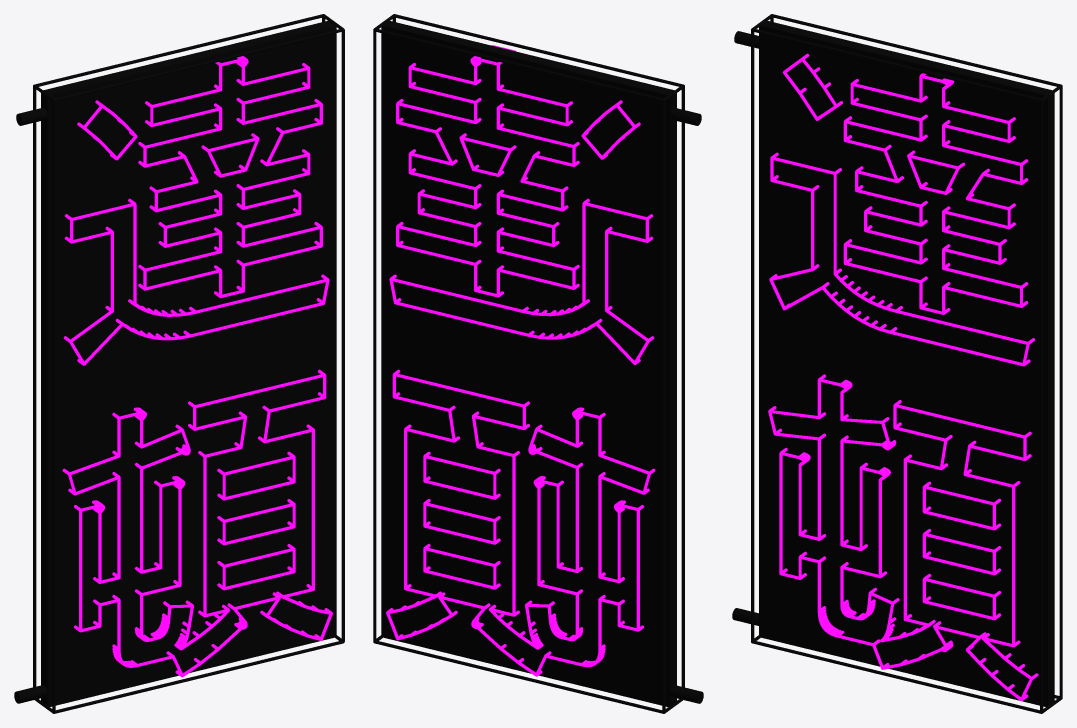
File: ВЫВЕСКА.fbx
The picture shows the model from 3 angles, left to right: view 1: azimuth 30°, elevation 25°; view 2: azimuth 150°, elevation 25°; view 3: azimuth 330°, elevation 25°; orthographic projection.
Visible parts, largest first — view 1: Куб, 頓, 達, Грань_0, Грань_2, Грань_8, Грань_1, Грань_3, Грань_7; view 2: Куб, 頓, 達, Грань_8, Грань_5, Грань_0, Грань_7, Грань_9, Грань_1; view 3: Куб, 頓, 達, Грань_2, Грань_0, Грань_5, Грань_1, Грань_3, Грань_7.
Part boxes in pixels (x1,y1,x2,y2): Куб: (41, 20, 336, 706); 頓: (62, 369, 332, 677); 達: (63, 56, 329, 365); Грань_0: (52, 101, 55, 712); Грань_2: (341, 30, 344, 642); Грань_8: (33, 86, 36, 687); Грань_1: (54, 28, 343, 101); Грань_3: (55, 640, 343, 713); Грань_7: (35, 14, 323, 86); Куб: (381, 20, 676, 706); 頓: (386, 369, 655, 676); 達: (389, 45, 654, 364); Грань_8: (662, 101, 665, 712); Грань_5: (373, 30, 376, 642); Грань_0: (681, 86, 684, 687); Грань_7: (374, 28, 663, 101); Грань_9: (374, 640, 663, 713); Грань_1: (394, 14, 683, 86); Куб: (759, 20, 1054, 706); 頓: (768, 374, 1038, 701); 達: (769, 53, 1034, 366); Грань_2: (1040, 101, 1043, 712); Грань_0: (751, 30, 754, 642); Грань_5: (1059, 87, 1062, 697); Грань_1: (751, 28, 1041, 101); Грань_3: (752, 640, 1040, 713); Грань_7: (772, 14, 1060, 86).
Size of the model in its own units: 220 by 407 by 25.33.
